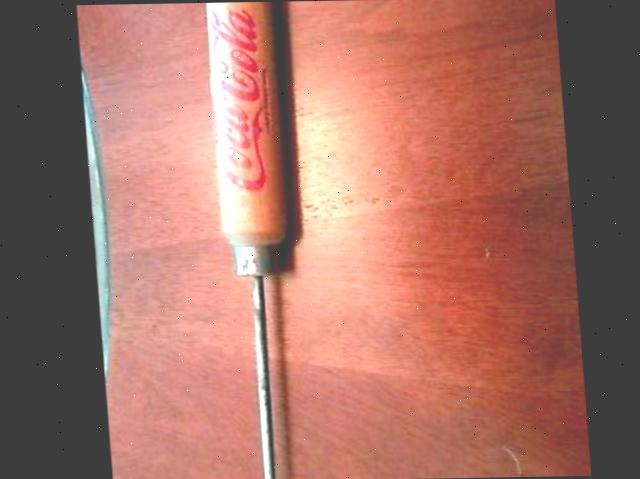ice pick: (204, 1, 302, 479)
